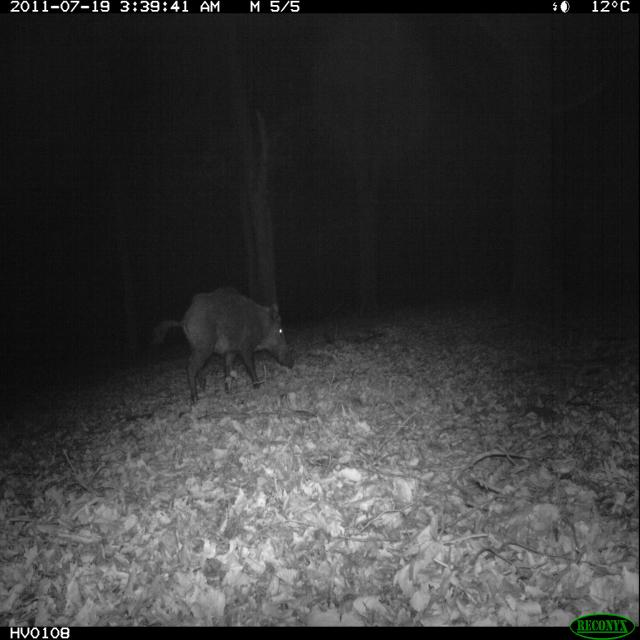boar: (147, 255, 301, 418)
